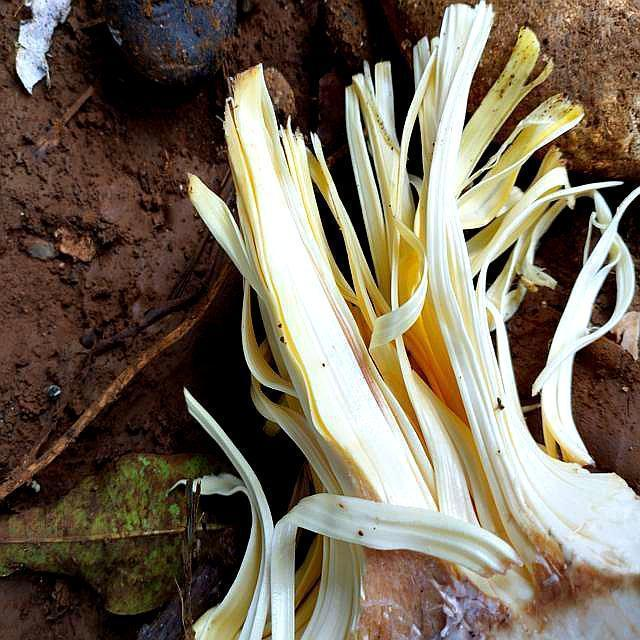Biodegradable: (227, 53, 640, 640)
